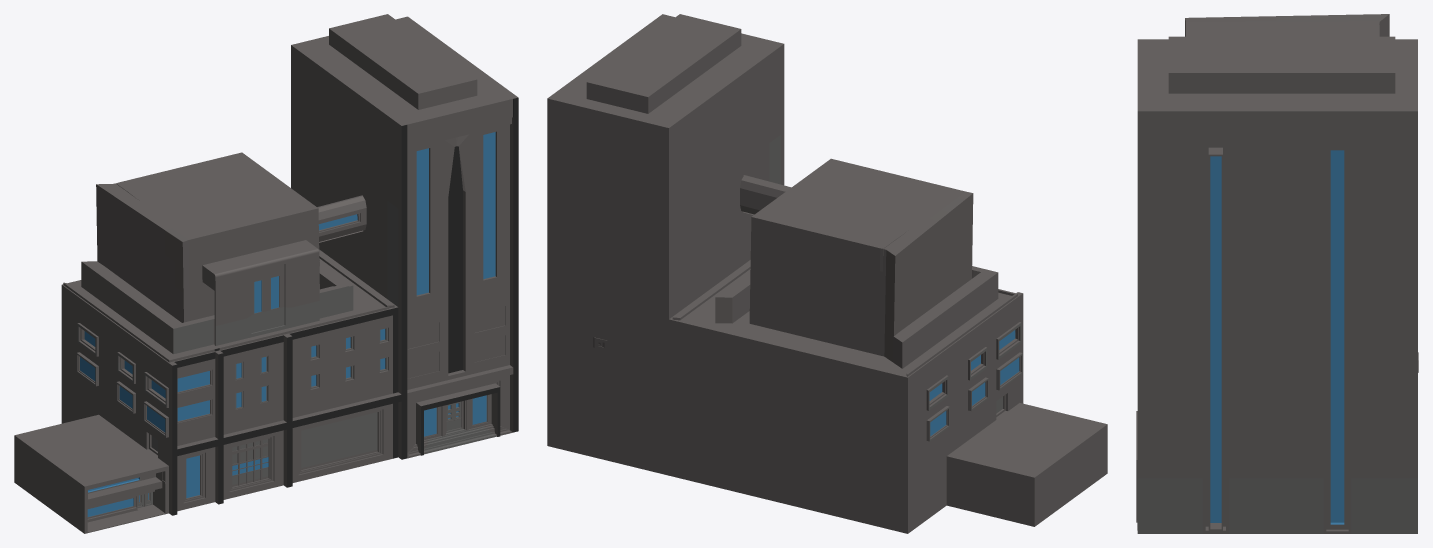
Rendered from wieza.fbx.
3 renders of one model, left to right at view 1: azimuth 30°, elevation 25°; view 2: azimuth 150°, elevation 25°; view 3: azimuth 270°, elevation 25°, orthographic. The views are drawn at different scales.
Visible parts, largest first — view 1: Cube; view 2: Cube; view 3: Cube.
Boxes of the visible parts, <box> form: Cube: <box>14,14,518,533</box>; Cube: <box>547,14,1107,533</box>; Cube: <box>1136,14,1418,533</box>.
Size of the model in its own units: 3200 by 2452 by 1416.
